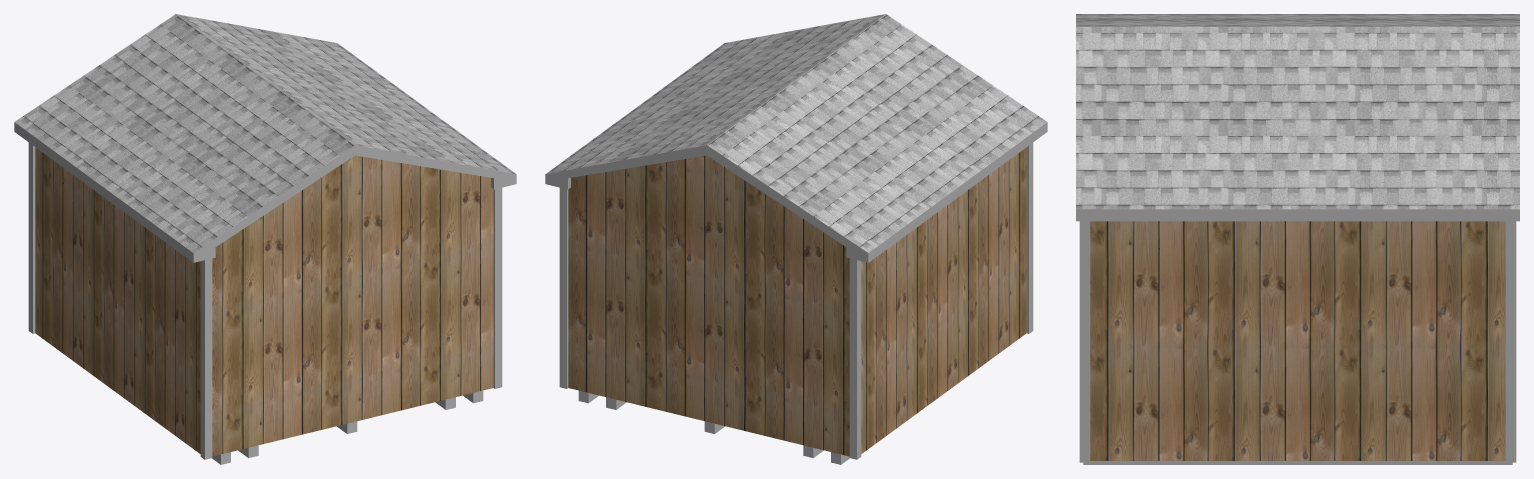
File: A-frame_10x10.obj
3 renders of one model, left to right at view 1: azimuth 30°, elevation 25°; view 2: azimuth 150°, elevation 25°; view 3: azimuth 270°, elevation 25°, orthographic. The views are drawn at different scales.
Visible parts, largest first — view 1: Shed, Roof, Trim, Sides, Floor; view 2: Shed, Roof, Trim, Sides, Floor; view 3: Shed, Roof, Trim, Sides, Floor.
Part boxes in pixels (x1,y1,x2,y2): Shed: [35, 147, 493, 456]; Roof: [15, 14, 515, 252]; Trim: [28, 142, 502, 459]; Sides: [14, 122, 516, 262]; Floor: [212, 390, 483, 464]; Shed: [568, 147, 1026, 456]; Roof: [546, 14, 1046, 252]; Trim: [559, 142, 1033, 459]; Sides: [545, 122, 1047, 262]; Floor: [578, 390, 849, 464]; Shed: [1090, 221, 1505, 460]; Roof: [1076, 14, 1519, 209]; Trim: [1079, 221, 1516, 462]; Sides: [1076, 209, 1519, 221]; Floor: [1083, 461, 1512, 464].
Bounding box in the file's own units: 3.28 × 2.81 × 3.15.
